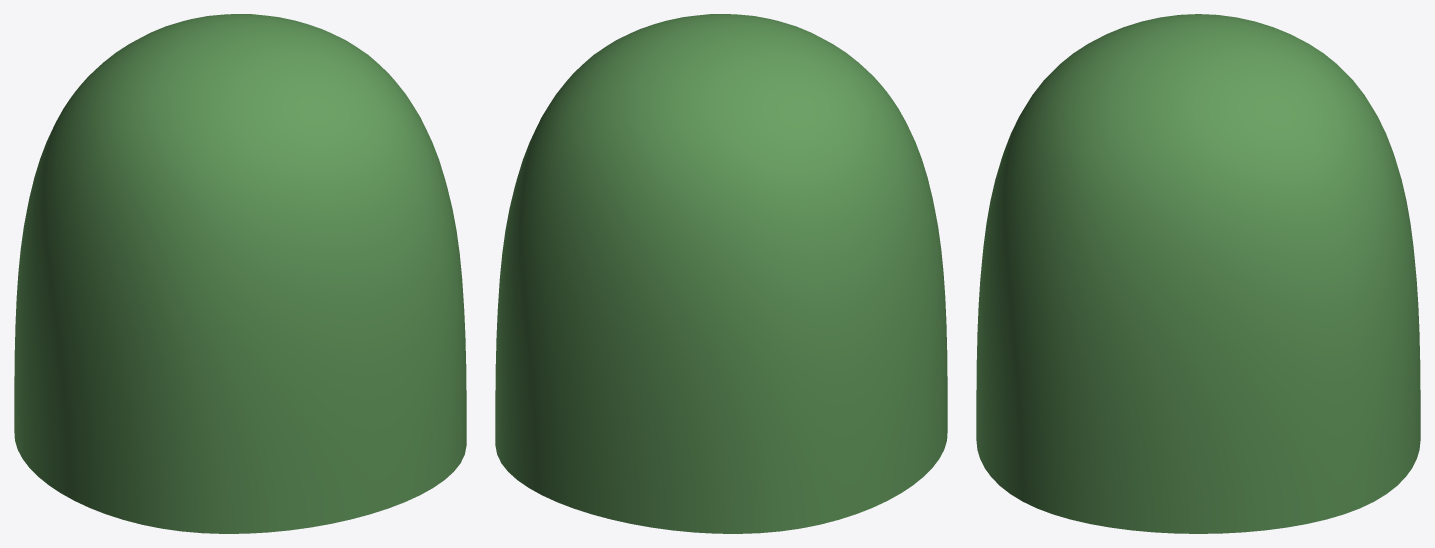
The model's file is bigmtn.fbx.
The picture shows the model from 3 angles, left to right: view 1: azimuth 30°, elevation 25°; view 2: azimuth 150°, elevation 25°; view 3: azimuth 270°, elevation 25°; orthographic projection.
Parts seen in each view (by area): view 1: bigmtn; view 2: bigmtn; view 3: bigmtn.
Part boxes in pixels (left/top/right/bottom): bigmtn: left=14, top=14, right=466, bottom=533; bigmtn: left=495, top=14, right=947, bottom=533; bigmtn: left=976, top=14, right=1420, bottom=533.
Bounding box in the file's own units: 11669 × 11707 × 11669.
